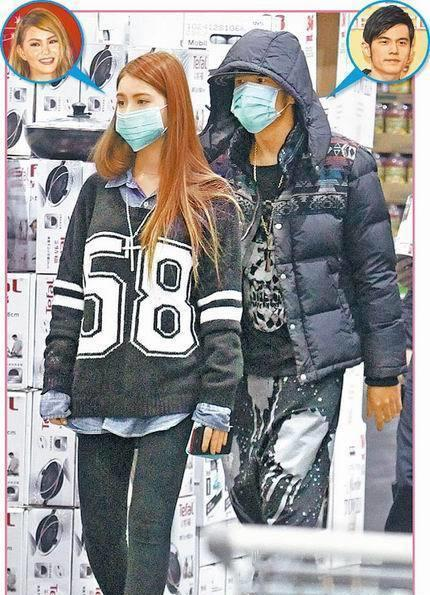NONE: (374, 31, 413, 72), (27, 32, 63, 71)
OK: (231, 65, 292, 126), (111, 88, 166, 143)
